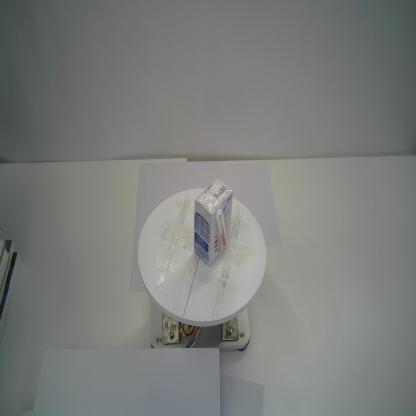Milk: (193, 177, 233, 267)
